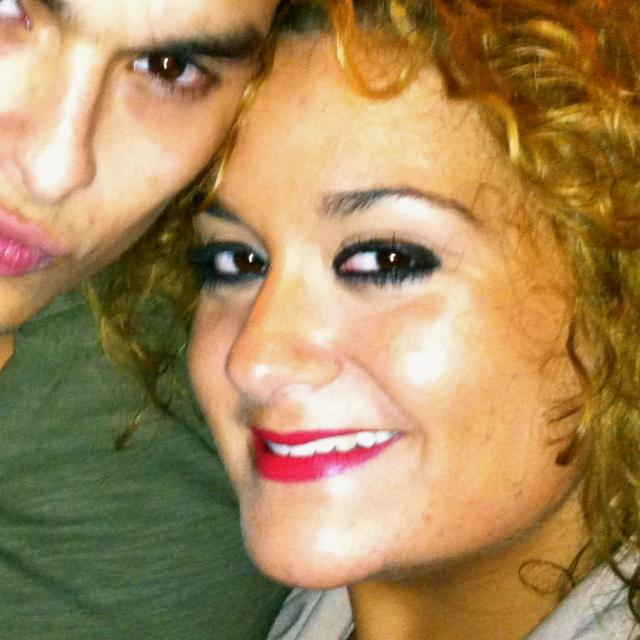Normal: (183, 42, 580, 593)
